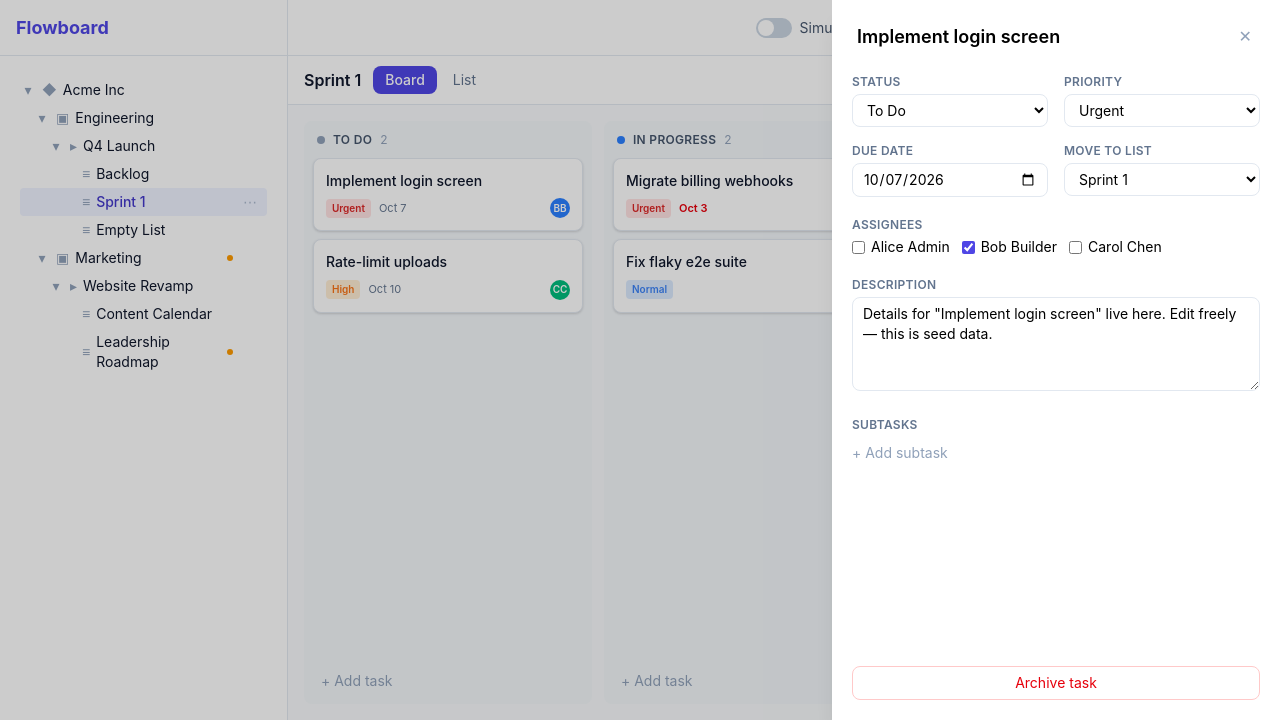
moving to a list with no statuses toasts an error and does not move the task
Select "Empty List" in the dropdown labelled "Move to list": [1162, 180] box top-left (1064, 163), bottom-right (1260, 196)
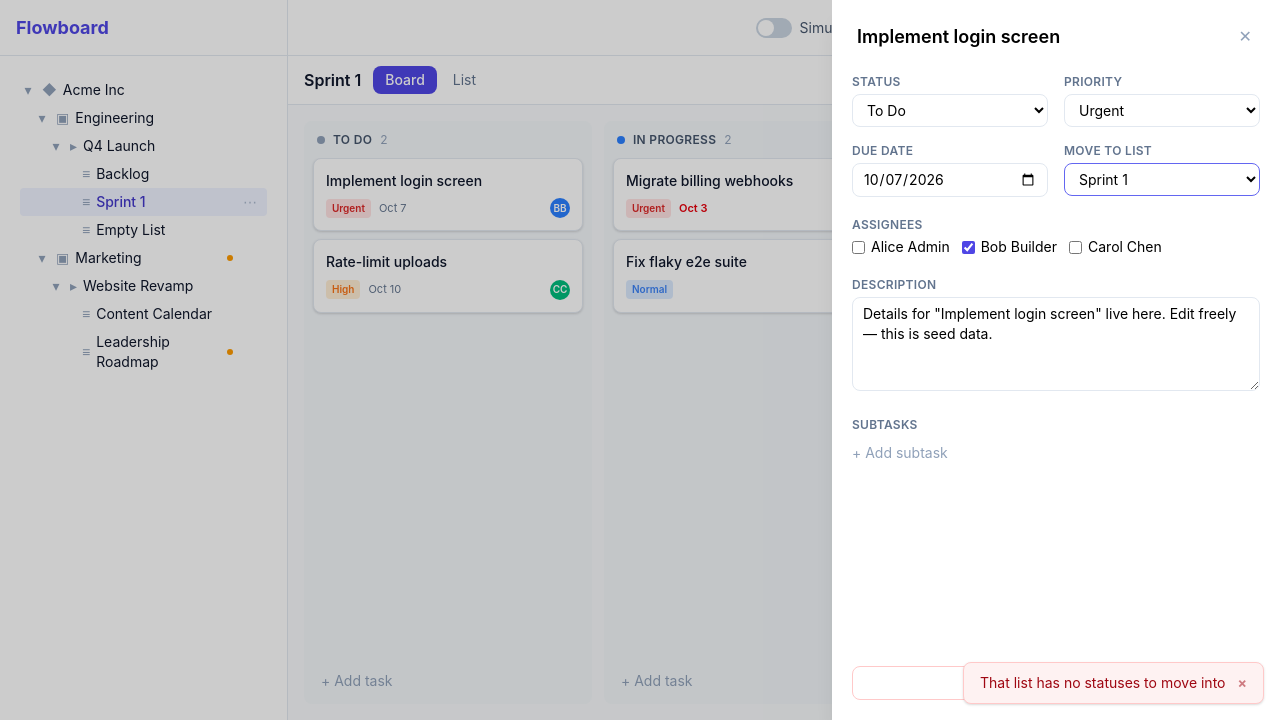
Click the button named "Dismiss": [1242, 683] box top-left (1238, 673), bottom-right (1247, 693)
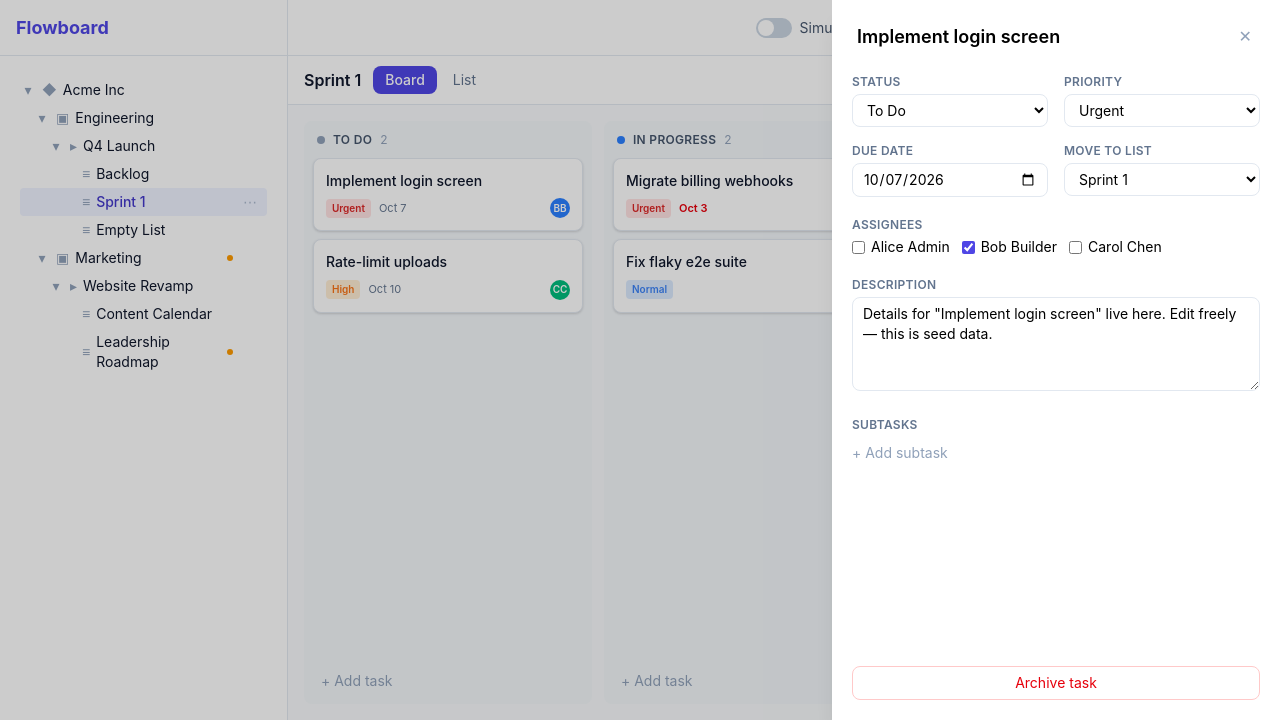
Result: the message "That list has no statuses to move into ×" is gone
